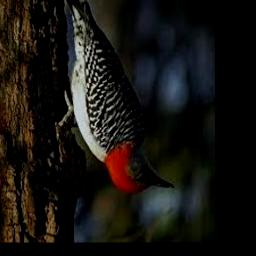Woodpecker: (60, 0, 174, 195)
